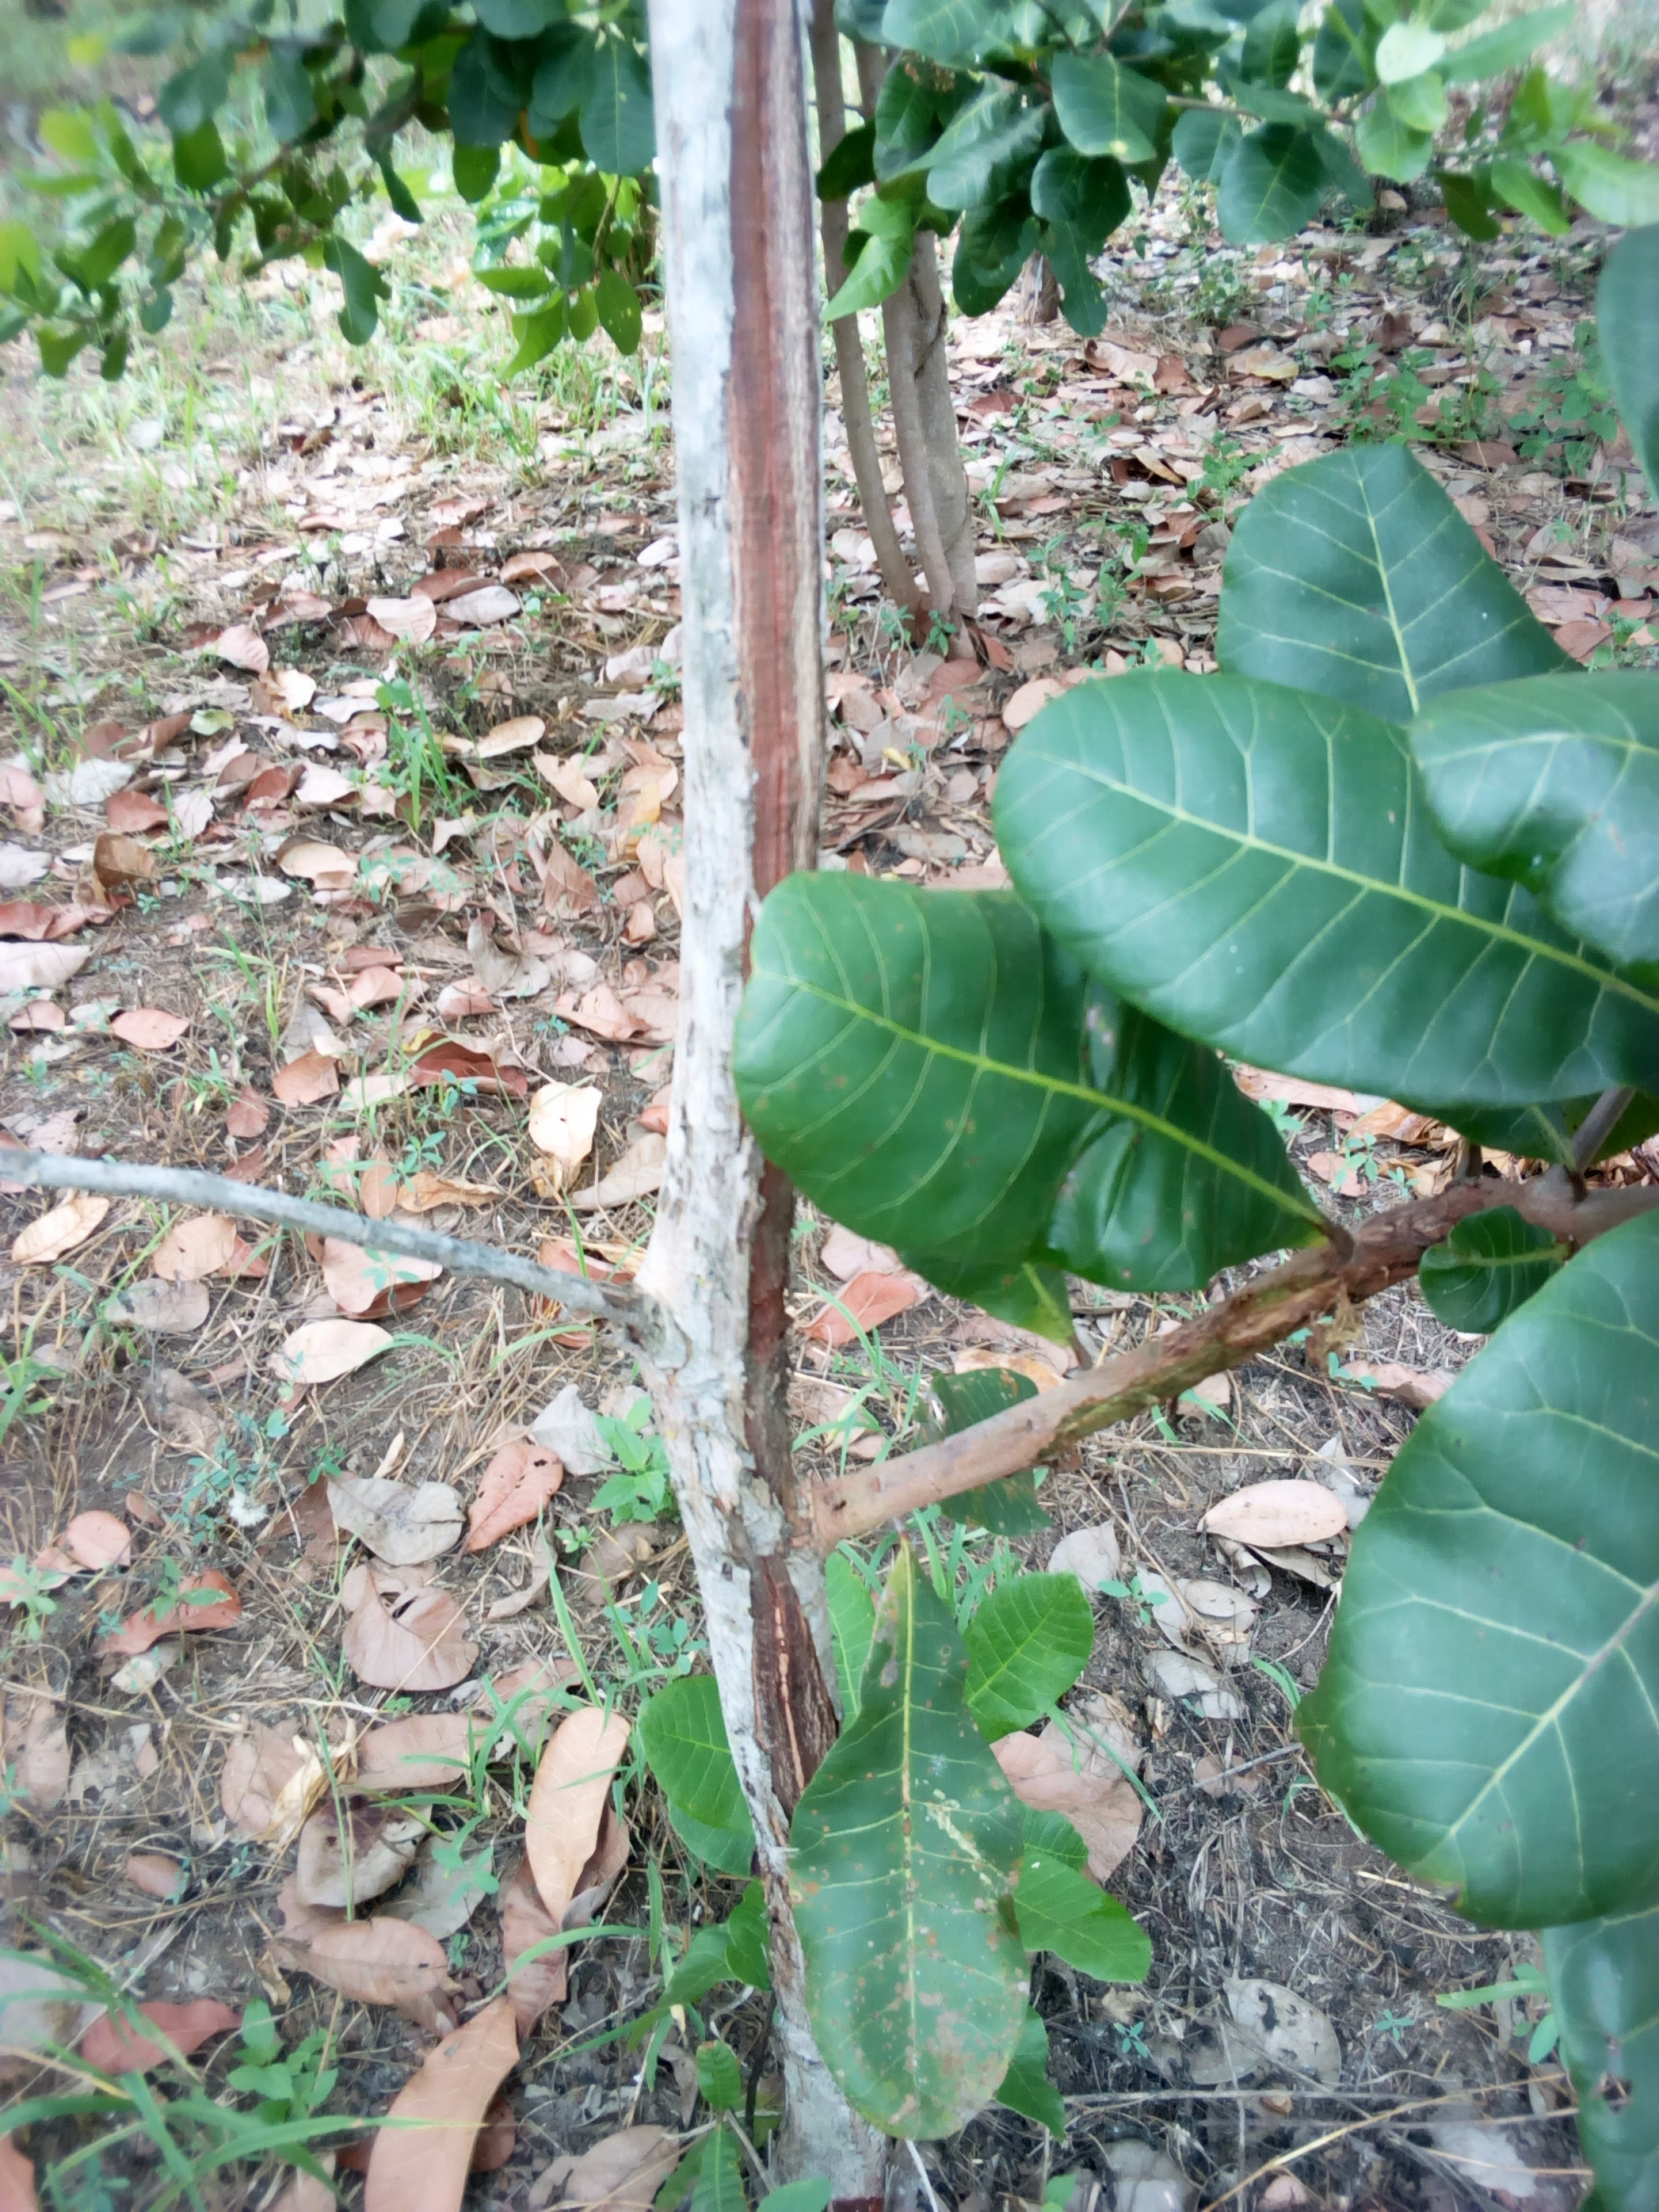Helopeltis anacardii: (775, 902, 1286, 1317), (1429, 683, 1659, 948)
